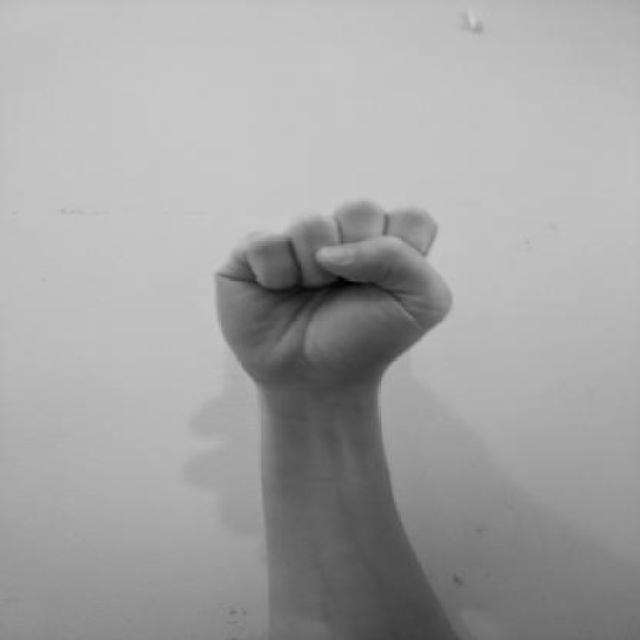S: (208, 191, 460, 395)
